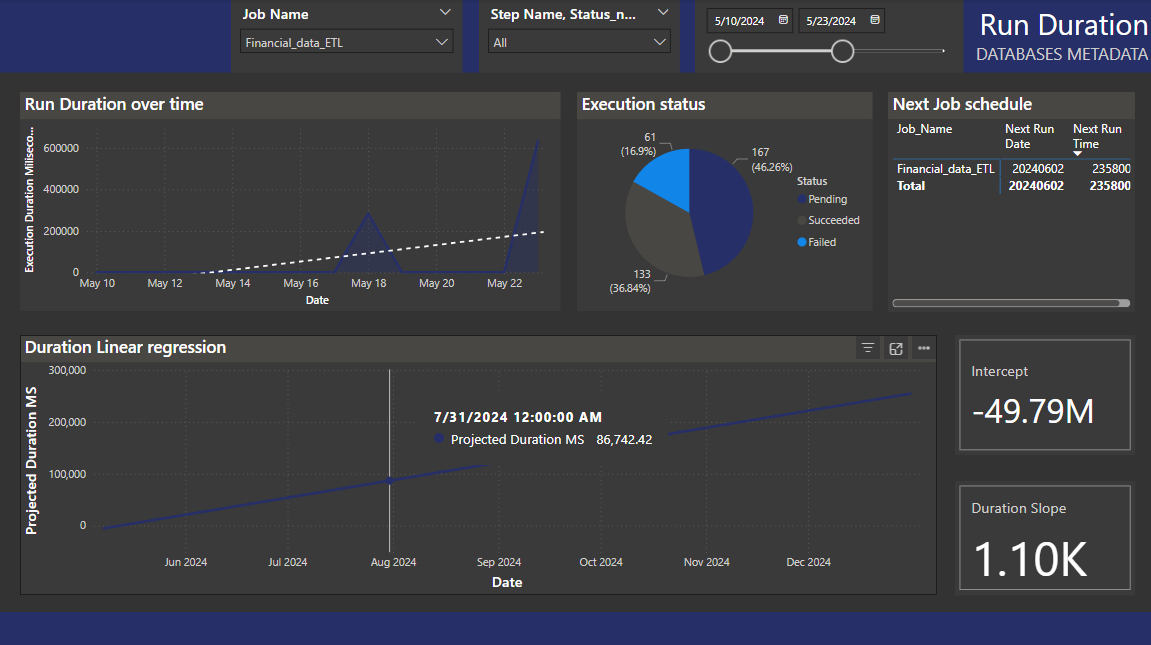

This screenshot's page, from the dashboard's own definition file:
{"tool":"powerbi","page":{"name":"Run Durations","canvas":[1280,720],"ordinal":3},"visuals":[{"type":"group","id":"g1","title":"Bars","box":[0,0,1280,720],"z":0},{"type":"shape","title":"Top bar","box":[0,0,1280,81.7],"z":0,"group":"g1"},{"type":"textbox","title":"Title","box":[671.7,0,608.3,81.7],"z":1000},{"type":"shape","title":"Bottom bar","box":[0,680,1280,40],"z":1000,"group":"g1"},{"type":"areaChart","title":"Run Duration over time","fields":{"Category":["powerbi Executions.LOAD_DATE.Variation.Date Hierarchy.Year","powerbi Executions.LOAD_DATE.Variation.Date Hierarchy.Quarter","powerbi Executions.LOAD_DATE.Variation.Date Hierarchy.Month","powerbi Executions.LOAD_DATE.Variation.Date Hierarchy.Day"],"Y":["Sum(powerbi Executions.Execution_Duration_MS)"]},"box":[21.7,103.3,600,243.3],"z":2000},{"type":"pivotTable","title":"Next Job schedule","fields":{"Rows":["powerbi Jobs.Job_Name"],"Values":["Max(powerbi Schedules.Next_Run_Date)","Max(powerbi Schedules.Next_Run_Time)"]},"box":[985.7,103,274.1,243.8],"z":3000},{"type":"lineChart","title":"Duration Linear regression","fields":{"Category":["Projection dates.Date.Variation.Date Hierarchy.Year"],"Y":["powerbi Executions.Projected Duration"]},"box":[21.7,373.3,1018.3,288.3],"z":4000},{"type":"cardVisual","fields":{"Data":["powerbi Executions.Projected Duration"]},"box":[1060,373.3,200,133.3],"z":5000},{"type":"cardVisual","fields":{"Data":["powerbi Executions.Duration_Slope"]},"box":[1060,535,200,126.7],"z":6000},{"type":"slicer","fields":{"Values":["api api_Jobs.Job_Name"]},"box":[256.7,0,256.7,81.7],"z":7000},{"type":"slicer","fields":{"Values":["powerbi Executions.Step_Name","powerbi Executions.Status_name"]},"box":[531.7,0,223.3,81.7],"z":8000},{"type":"slicer","fields":{"Values":["powerbi Executions.LOAD_DATE"]},"box":[771.7,0,298.3,81.7],"z":9000},{"type":"pieChart","title":"Execution status","fields":{"Y":["CountNonNull(powerbi Executions.Status_name)"],"Category":["powerbi Executions.Status_name"]},"box":[640,103.3,328.3,243.3],"z":10000}]}

Visuals, with their boxes in screenshot pixels (x1, y1, x2, y2), scaled from the page's 1280x720 canvas onto the 1151x645 screenshot:
"Bars" group: [0,0,1150,644]
"Top bar" shape: [0,0,1150,73]
"Title" textbox: [604,0,1150,73]
"Bottom bar" shape: [0,609,1150,644]
"Run Duration over time" areaChart: [20,93,559,310]
"Next Job schedule" pivotTable: [886,92,1133,311]
"Duration Linear regression" lineChart: [20,334,935,593]
cardVisual - powerbi Executions.Projected Duration: [953,334,1133,454]
cardVisual - powerbi Executions.Duration_Slope: [953,479,1133,593]
slicer - api api_Jobs.Job_Name: [231,0,462,73]
slicer - powerbi Executions.Step_Name x powerbi Executions.Status_name: [478,0,679,73]
slicer - powerbi Executions.LOAD_DATE: [694,0,962,73]
"Execution status" pieChart: [576,93,871,310]
